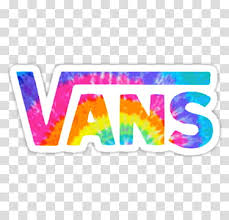vans: (16, 70, 211, 149)
